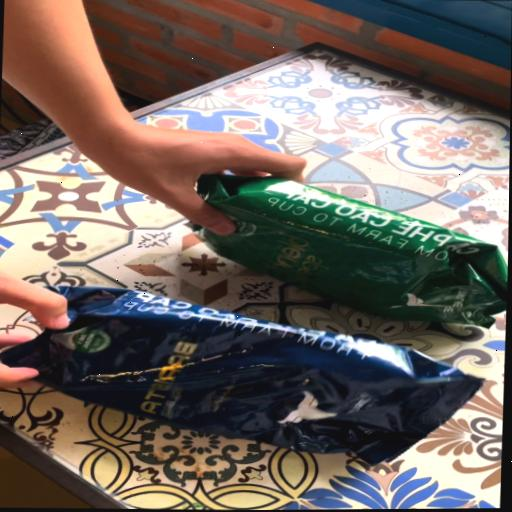cafe_hat: (0, 287, 483, 465)
cafe_xay: (191, 175, 508, 328)
